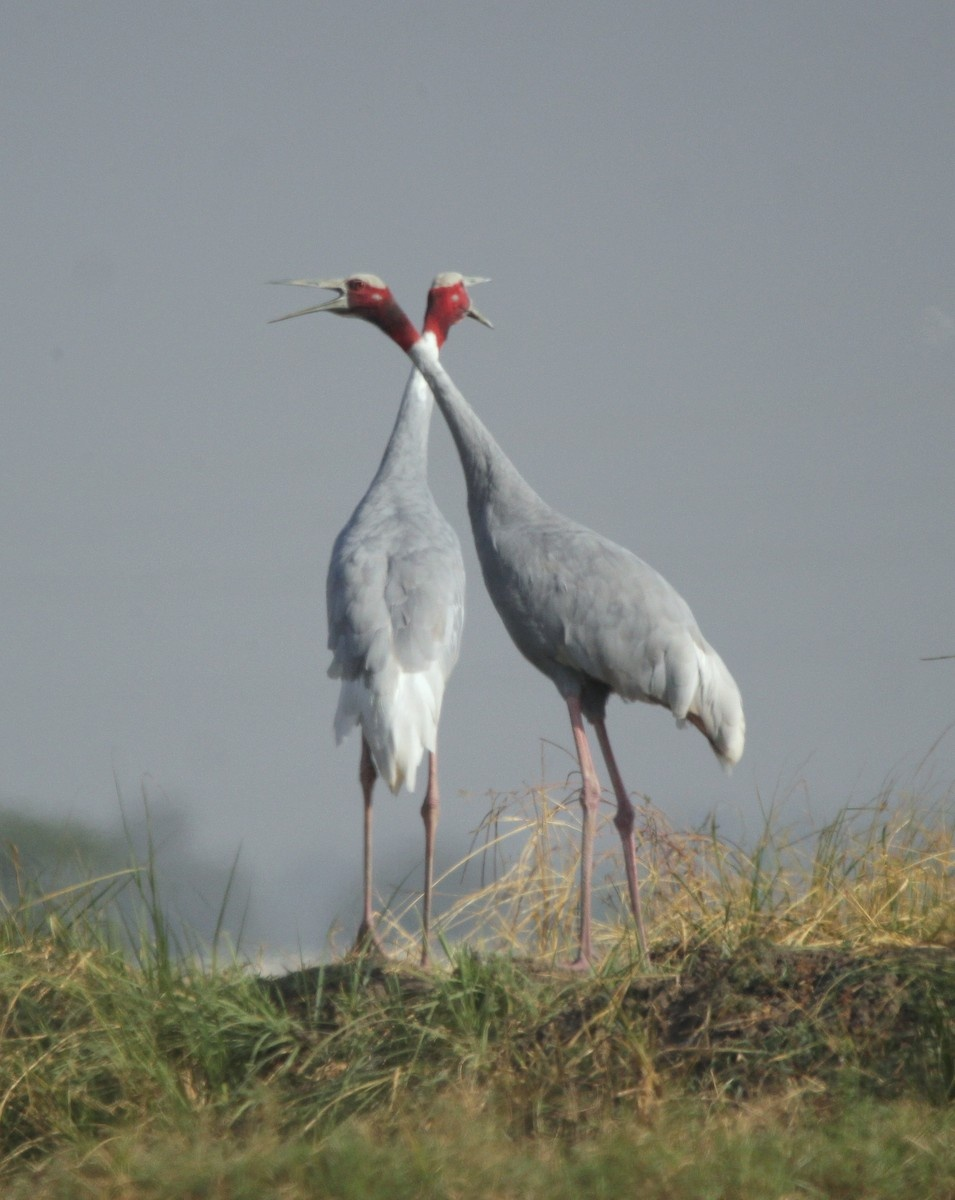crane: (275, 254, 792, 1028), (325, 253, 507, 943)
